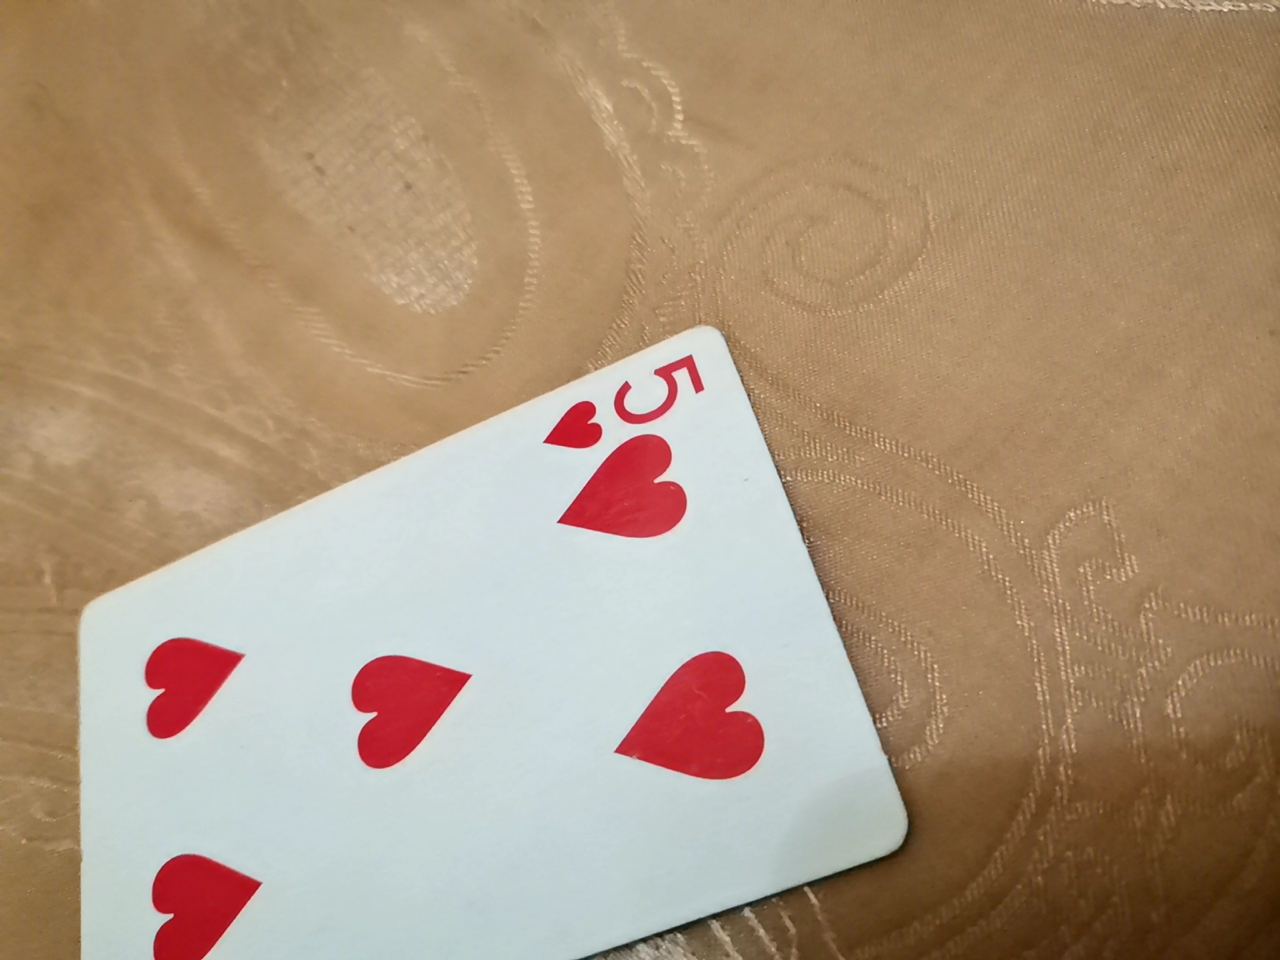hx 5: (65, 320, 920, 955)
